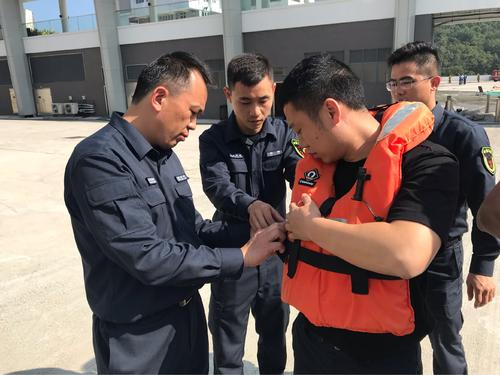other_clothes: (68, 125, 211, 323), (396, 104, 490, 272), (199, 110, 290, 252)
reflective_clothes: (284, 119, 430, 337)
